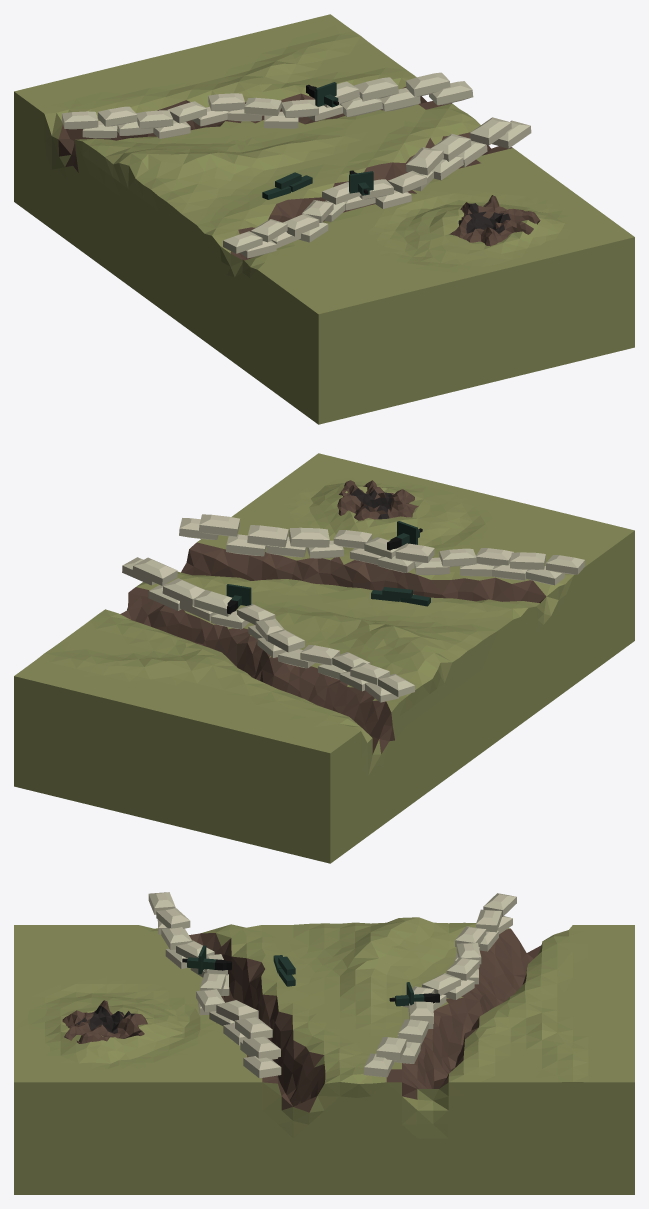
Rendered from Map 0-2.fbx.
The picture shows the model from 3 angles, top to bottom: view 1: azimuth 30°, elevation 25°; view 2: azimuth 150°, elevation 25°; view 3: azimuth 270°, elevation 25°; orthographic projection.
Visible parts, largest first — view 1: Cube.001, Cylinder, Cube.011, Cube.005, Cube.012, Cube.004, Cube.014, Cube.017, Cube.006, Cube.038, Cube.043, Cube.039 (+6 smaller); view 2: Cube.001, Cylinder, Cube.011, Cube.004, Cube.005, Cube.006, Cube.012, Cube.010, Cube.023, Cube.002, Cube.028, Cube.007 (+5 smaller); view 3: Cube.001, Cylinder, Cube.005, Cube.004, Cube.008, Cube.006, Cube.011, Cube.012, Cube.014, Cube.022, Cube.038, Cube.040 (+8 smaller).
Boxes of the visible parts, bbox=[...] form: Cube.001: bbox=[14, 14, 634, 424]; Cylinder: bbox=[449, 195, 540, 246]; Cube.011: bbox=[405, 72, 450, 96]; Cube.005: bbox=[469, 117, 511, 145]; Cube.012: bbox=[354, 77, 398, 101]; Cube.004: bbox=[406, 147, 443, 175]; Cube.014: bbox=[429, 81, 473, 105]; Cube.017: bbox=[98, 106, 137, 126]; Cube.006: bbox=[431, 134, 471, 161]; Cube.038: bbox=[208, 93, 244, 111]; Cube.043: bbox=[62, 111, 98, 129]; Cube.039: bbox=[281, 99, 318, 117]; Cube.001: bbox=[14, 453, 634, 863]; Cylinder: bbox=[337, 480, 418, 520]; Cube.011: bbox=[132, 557, 177, 585]; Cube.004: bbox=[289, 527, 329, 547]; Cube.005: bbox=[199, 514, 240, 536]; Cube.006: bbox=[247, 525, 288, 547]; Cube.012: bbox=[162, 578, 204, 606]; Cube.010: bbox=[194, 590, 238, 616]; Cube.023: bbox=[439, 548, 476, 566]; Cube.002: bbox=[546, 555, 584, 574]; Cube.028: bbox=[395, 543, 434, 562]; Cube.007: bbox=[226, 534, 266, 556]; Cube.001: bbox=[14, 917, 634, 1194]; Cylinder: bbox=[62, 1000, 147, 1043]; Cube.005: bbox=[243, 1036, 280, 1058]; Cube.004: bbox=[216, 1000, 258, 1021]; Cube.008: bbox=[243, 1056, 281, 1078]; Cube.006: bbox=[235, 1017, 272, 1038]; Cube.011: bbox=[376, 1037, 406, 1060]; Cube.012: bbox=[398, 1019, 428, 1042]; Cube.014: bbox=[363, 1053, 393, 1077]; Cube.022: bbox=[156, 907, 190, 928]; Cube.038: bbox=[446, 957, 479, 980]; Cube.040: bbox=[422, 973, 460, 995].
Size of the model in its own units: 668 by 273 by 1000.
